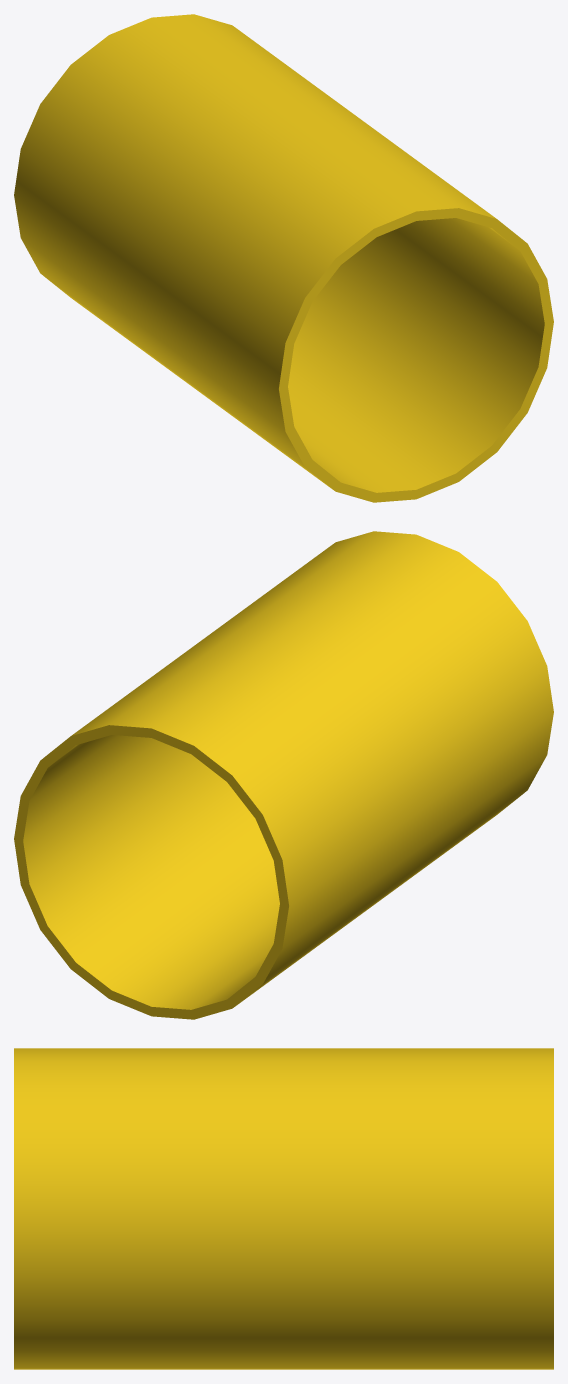
The model's file is water.pipe.gas_main.glb.
3 views of the same model, one above another, from view 1: azimuth 30°, elevation 25°; view 2: azimuth 150°, elevation 25°; view 3: azimuth 270°, elevation 25° (orthographic).
Visible parts, largest first — view 1: main__plastic_yellow; view 2: main__plastic_yellow; view 3: main__plastic_yellow.
Part boxes in pixels (box(x1,y1,x2,y2)): main__plastic_yellow: box(14, 14, 553, 502); main__plastic_yellow: box(14, 531, 553, 1019); main__plastic_yellow: box(14, 1048, 553, 1369).
Bounding box in the file's own units: 0.6 × 0.6 × 1.
